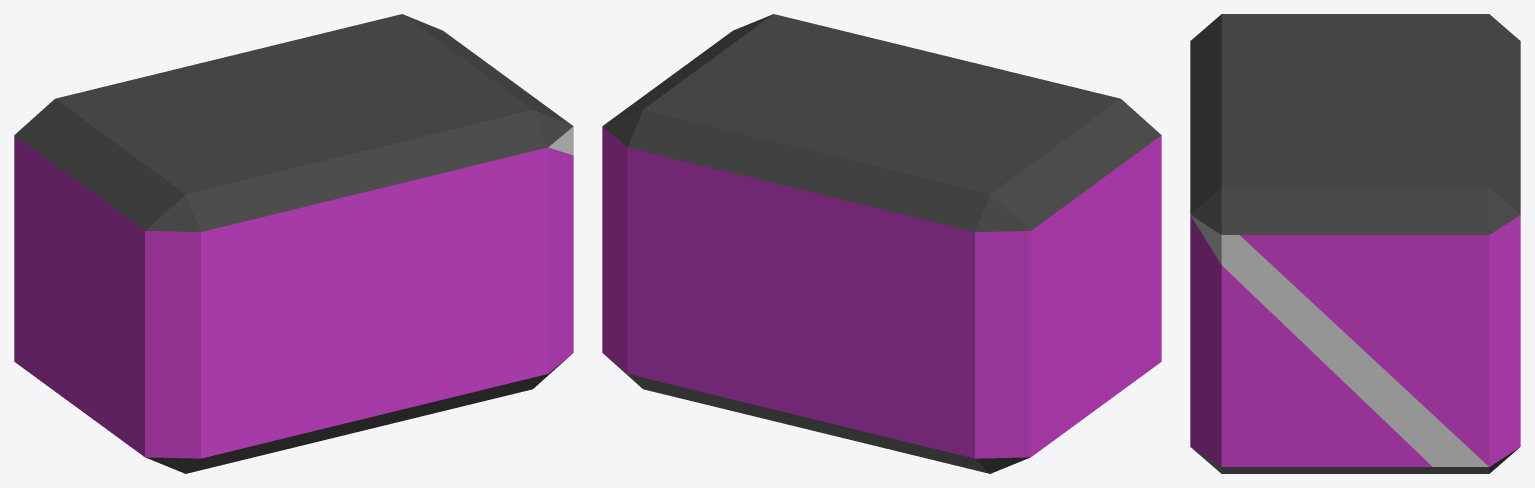
The model's file is SmallCase5.fbx.
3 renders of one model, left to right at view 1: azimuth 30°, elevation 25°; view 2: azimuth 150°, elevation 25°; view 3: azimuth 270°, elevation 25°, orthographic. The views are drawn at different scales.
Visible parts, largest first — view 1: Cube.043; view 2: Cube.043; view 3: Cube.043.
Boxes of the visible parts, box(x1,y1,x2,y2) form: Cube.043: box(14, 14, 573, 473); Cube.043: box(602, 14, 1161, 473); Cube.043: box(1190, 14, 1520, 473).
Bounding box in the file's own units: 72.28 × 45.05 × 47.11.
